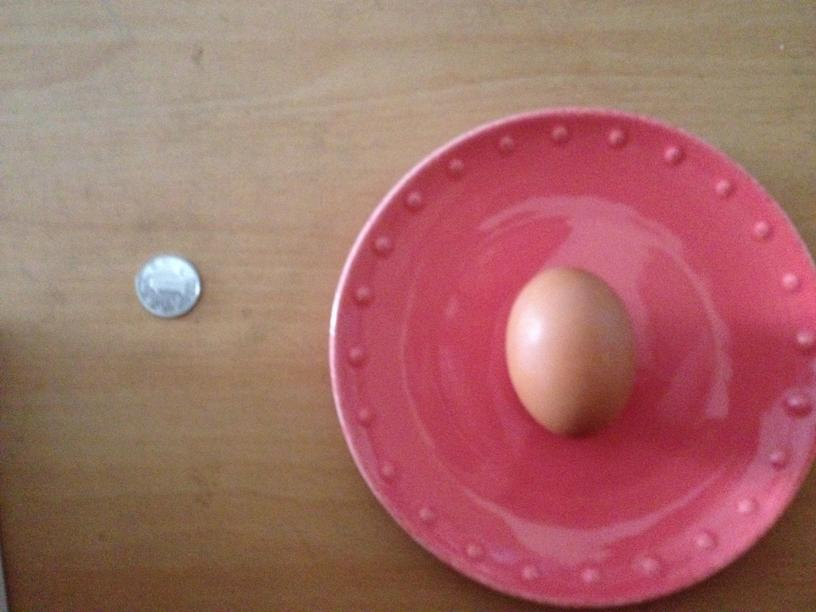coin: (131, 255, 203, 319)
egg: (503, 265, 637, 438)
